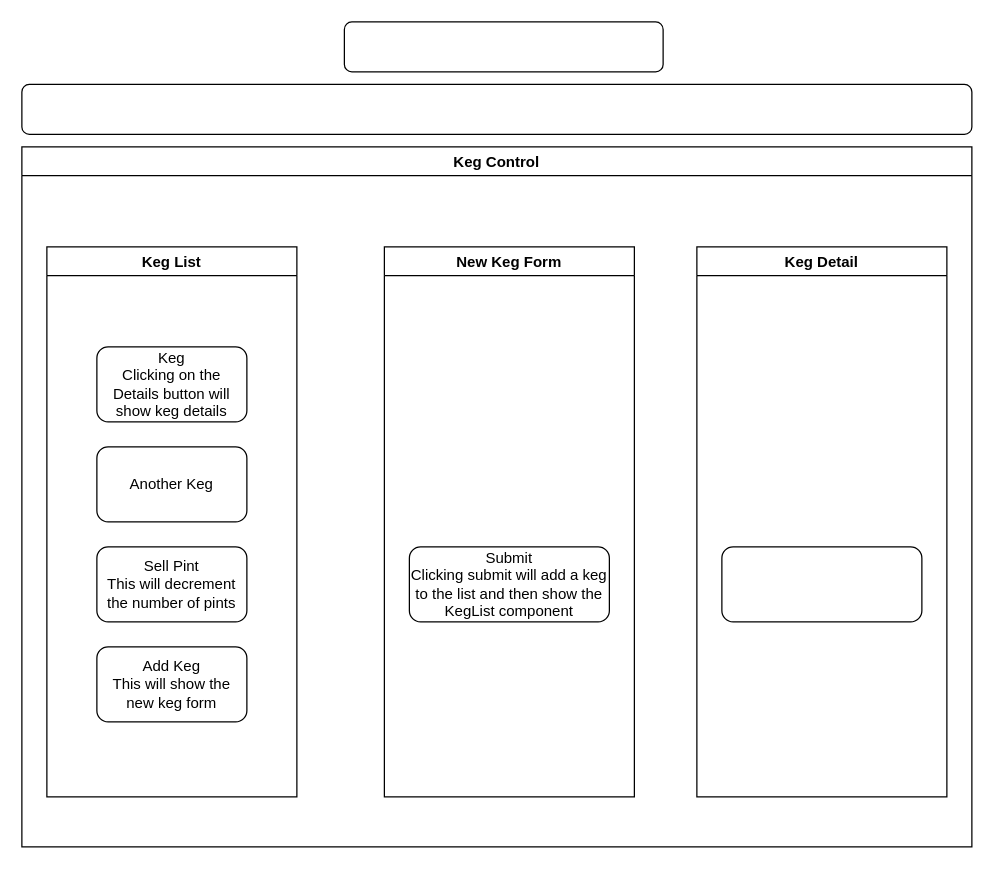
This 994x869 diagram has some shape labels left out. The centre of each missing label's shape, as x and y in pixels:
"Header" belongs at point (496, 108).
"Keg Tracker App" belongs at point (503, 46).
"Update/Delete Users are able to update keg information and delete kegs as well" belongs at point (821, 584).
